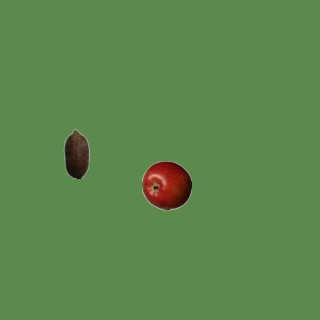Apple Braeburn: (141, 160, 191, 210)
Nut Pecan: (51, 128, 101, 178)
